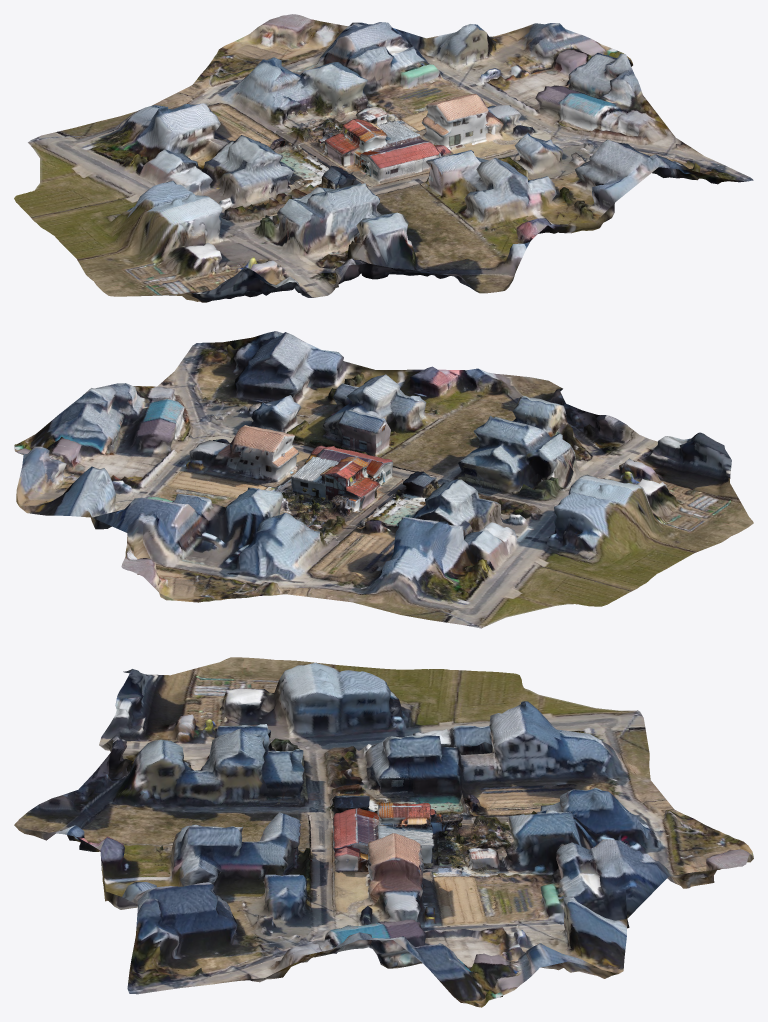
The model's file is inventclub-ext.glb.
3 renders of one model, top to bottom at view 1: azimuth 30°, elevation 25°; view 2: azimuth 150°, elevation 25°; view 3: azimuth 270°, elevation 25°, orthographic. The views are drawn at different scales.
Visible parts, largest first — view 1: baked_mesh; view 2: baked_mesh; view 3: baked_mesh.
Part boxes in pixels (box(x1,y1,x2,y2)): baked_mesh: box(14, 14, 753, 302); baked_mesh: box(14, 331, 753, 628); baked_mesh: box(14, 657, 753, 1007).
Bounding box in the file's own units: 142 × 11.03 × 126.
1 material, 1 textured.
